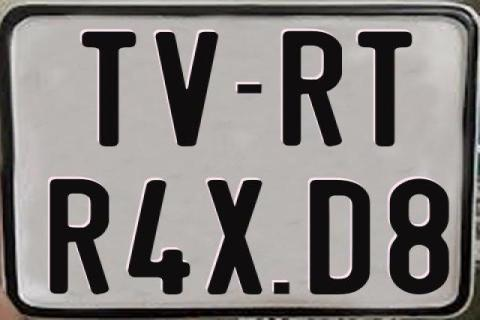0: (127, 178, 195, 294), (390, 177, 452, 297)
D: (308, 180, 374, 294)
R: (47, 177, 111, 296), (282, 31, 342, 149)
T: (79, 29, 138, 150), (357, 30, 412, 146)
V: (156, 31, 218, 147)
X: (208, 179, 266, 297)
